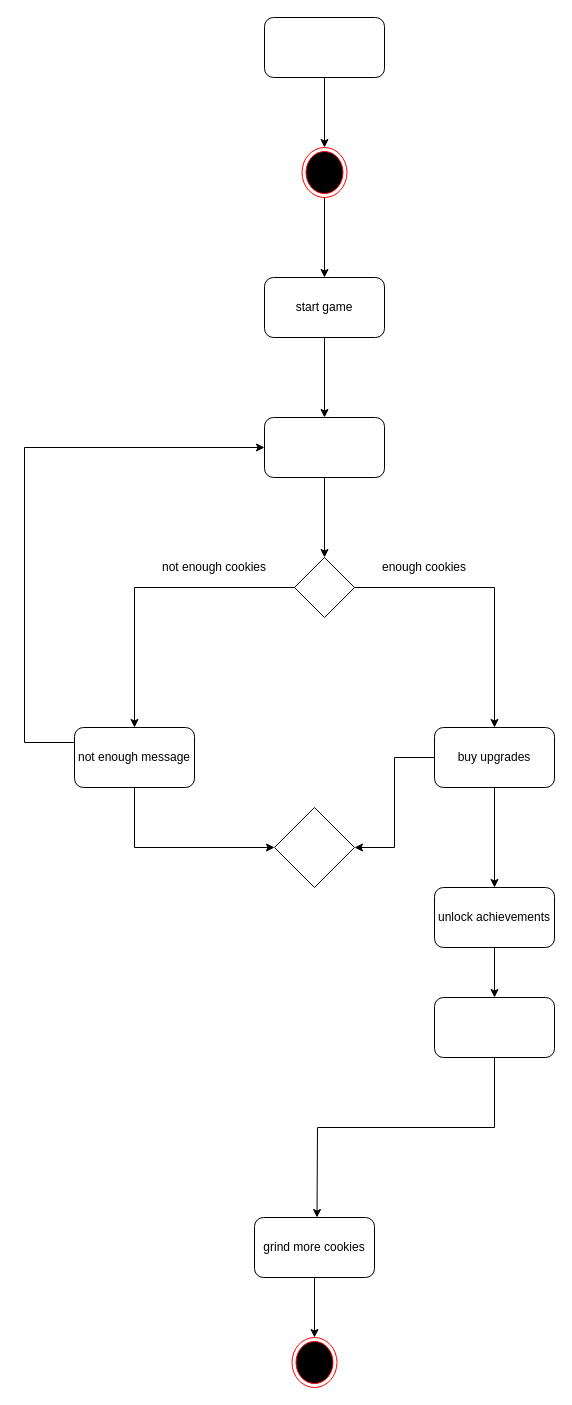
This 572x1405 diagram has some shape labels left out. Each missing label, with the centre of its shape:
"click on cookie" belongs at [324,447].
"cookie-clicker" belongs at [324,47].
"unlock theme" belongs at [494,1027].
